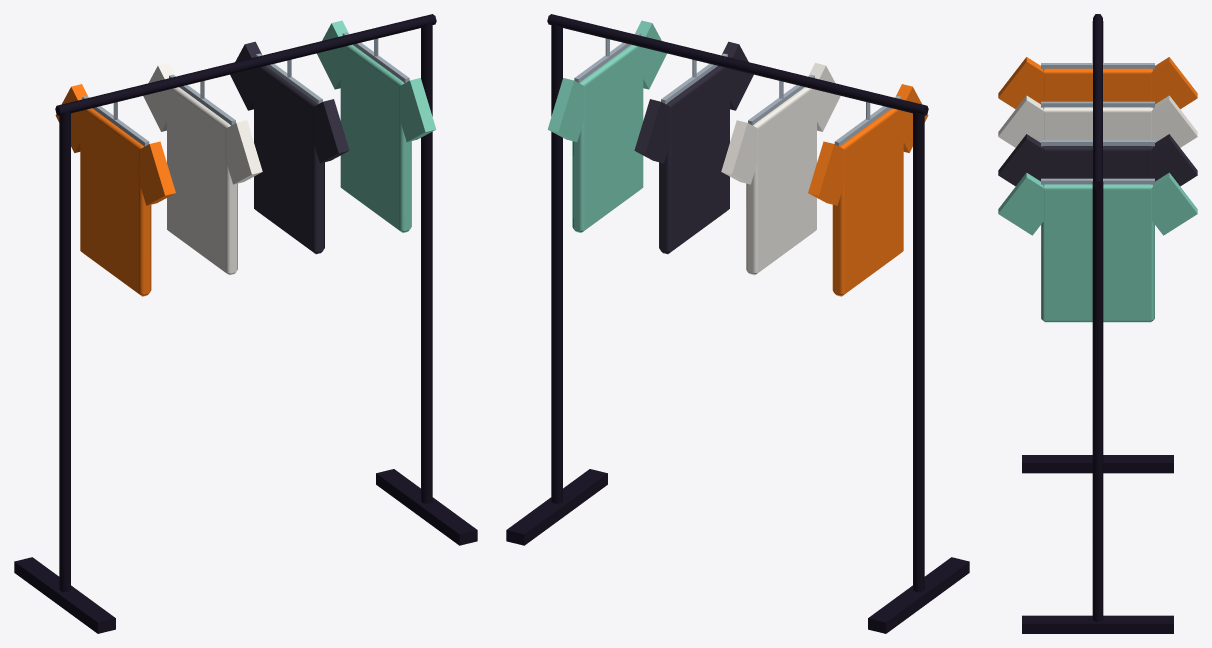
File: station_special_ausstattung_1_0.glb
3 views of the same model, side by side, from view 1: azimuth 30°, elevation 25°; view 2: azimuth 150°, elevation 25°; view 3: azimuth 270°, elevation 25° (orthographic). The views are drawn at different scales.
Parts seen in each view (by area): view 1: station_special_ausstattung_1_0; view 2: station_special_ausstattung_1_0; view 3: station_special_ausstattung_1_0.
Part boxes in pixels (bbox=[...]): station_special_ausstattung_1_0: bbox=[14, 14, 477, 633]; station_special_ausstattung_1_0: bbox=[506, 14, 969, 633]; station_special_ausstattung_1_0: bbox=[998, 14, 1197, 633].
Size of the model in its own units: 1.05 by 1.31 by 0.5247.
